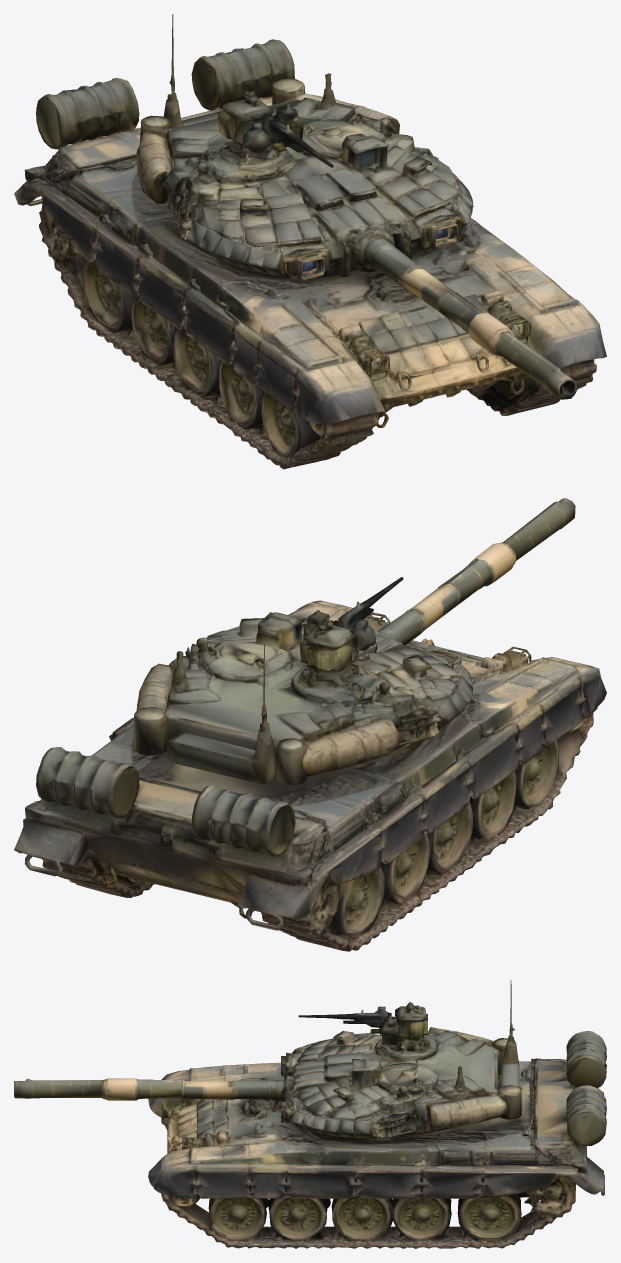
Rendered from tank_t90.glb.
3 views of the same model, one above another, from view 1: azimuth 30°, elevation 25°; view 2: azimuth 150°, elevation 25°; view 3: azimuth 270°, elevation 25° (orthographic). The views are drawn at different scales.
Parts seen in each view (by area): view 1: node_0; view 2: node_0; view 3: node_0.
Boxes of the visible parts, x1,y1,x2,y2 form: node_0: (14, 14, 606, 469); node_0: (14, 498, 606, 951); node_0: (14, 980, 606, 1248).
Size of the model in its own units: 0.4534 by 0.4308 by 1.12.
Materials: 1 (1 with a texture image).
